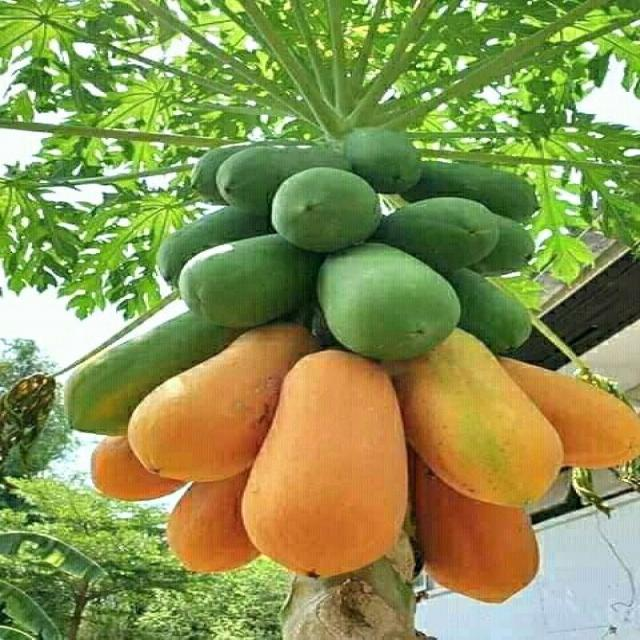Pepaya rippen: (245, 352, 411, 584), (400, 334, 564, 511), (127, 330, 300, 486), (406, 474, 550, 610), (500, 351, 640, 474), (172, 488, 252, 578), (94, 435, 170, 502)
Pepaya unrippen: (314, 248, 469, 356), (179, 245, 312, 316), (269, 177, 384, 246)
